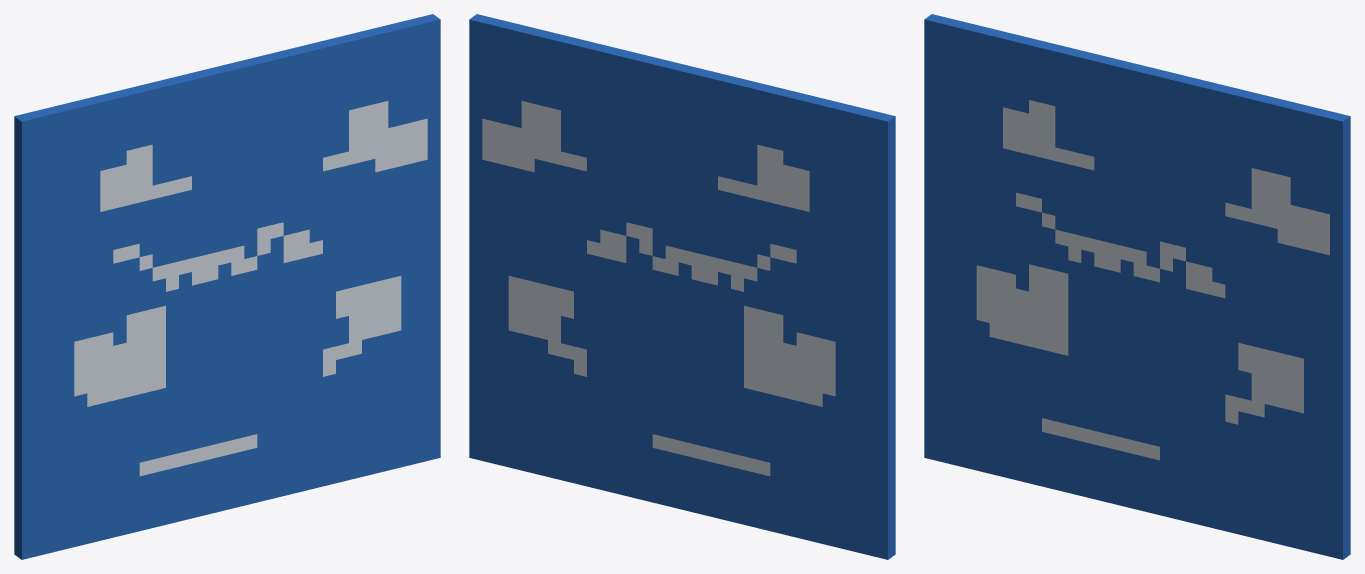
File: background_scene1.obj
3 renders of one model, left to right at view 1: azimuth 30°, elevation 25°; view 2: azimuth 150°, elevation 25°; view 3: azimuth 330°, elevation 25°, orthographic.
Bounding box in the file's own units: 32 × 32 × 1.
